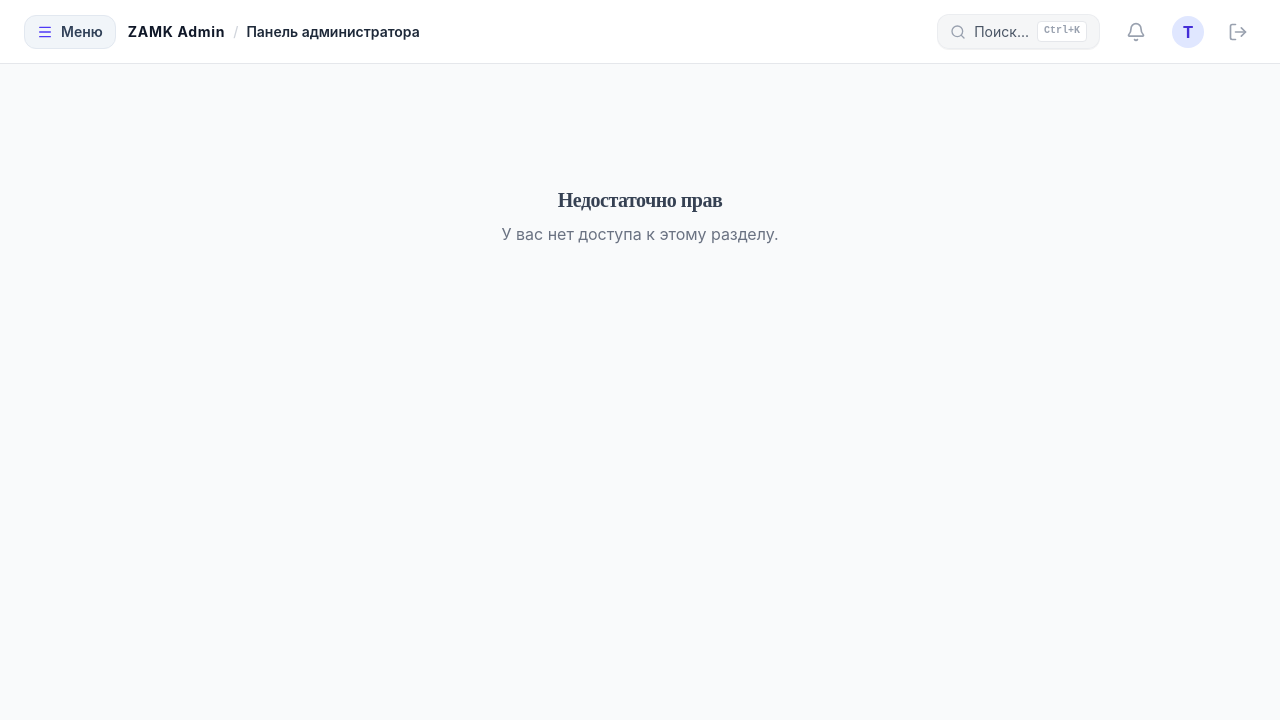
EMP.1C3C2R.2B — Admin Navigation and Route Guards Alignment › F: orders.read alone does NOT expose picking navigation or access to /fulfillment/picking
The image size is (1280, 720).
Click the button with test id "admin-nav-trigger" at (70, 32), box [24, 14, 116, 48]
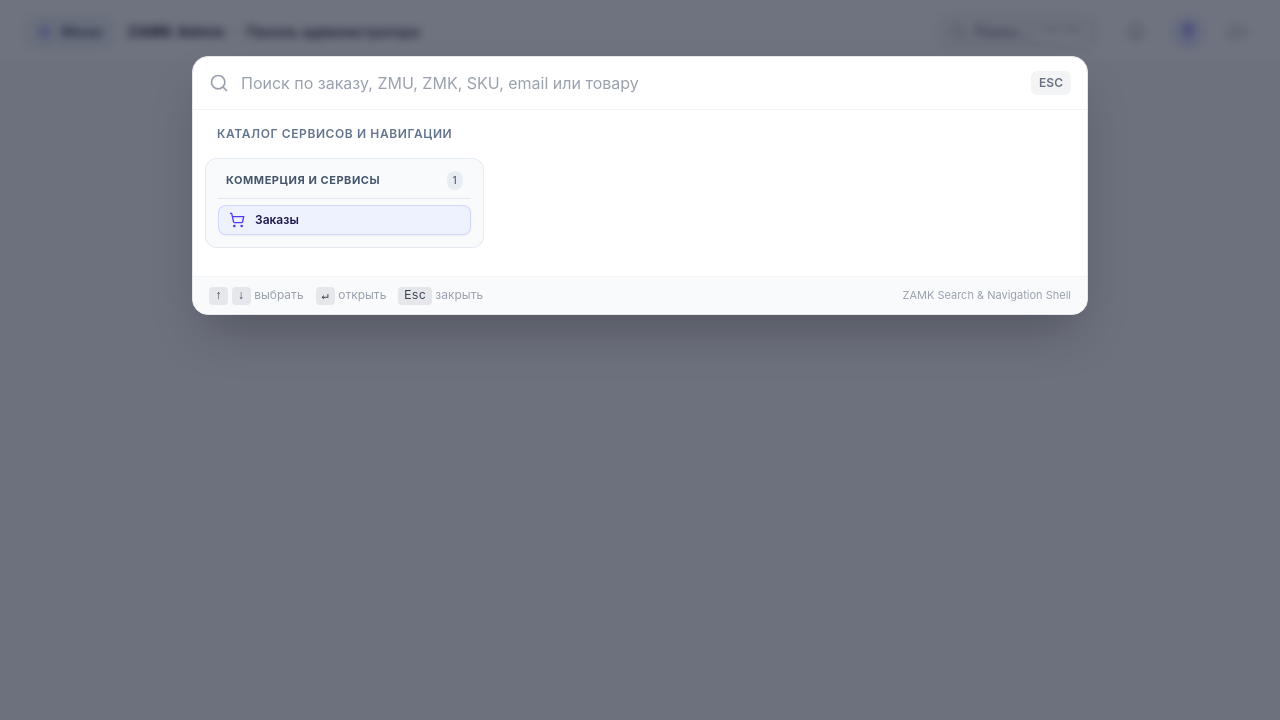
Now the text "Заказы" is shown, box [255, 212, 299, 228]
